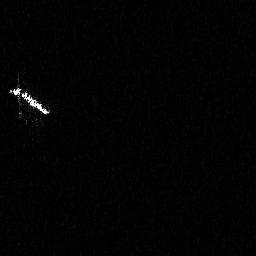ship: (9, 73, 51, 130)
